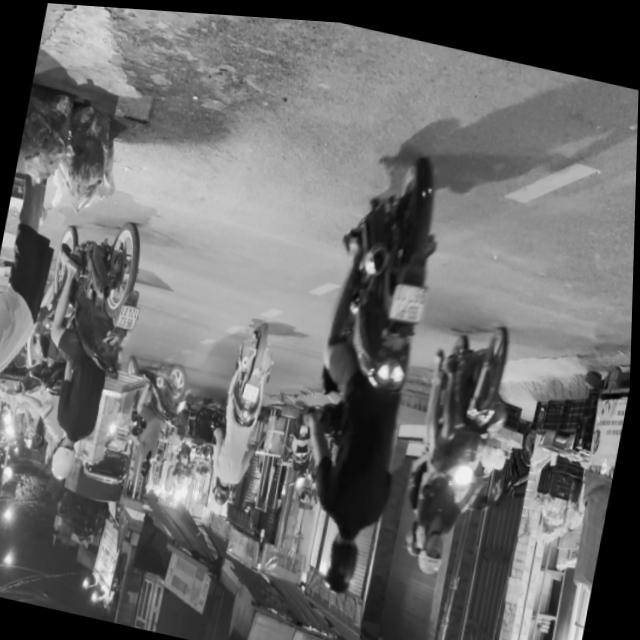helmet: (325, 523, 368, 591), (419, 523, 451, 573), (51, 435, 81, 482), (215, 478, 236, 509)
licenseplate: (279, 134, 461, 601), (12, 204, 158, 495), (396, 305, 527, 584), (204, 312, 285, 516)
nohelmet: (390, 277, 430, 320), (116, 301, 141, 330), (244, 379, 261, 399)
